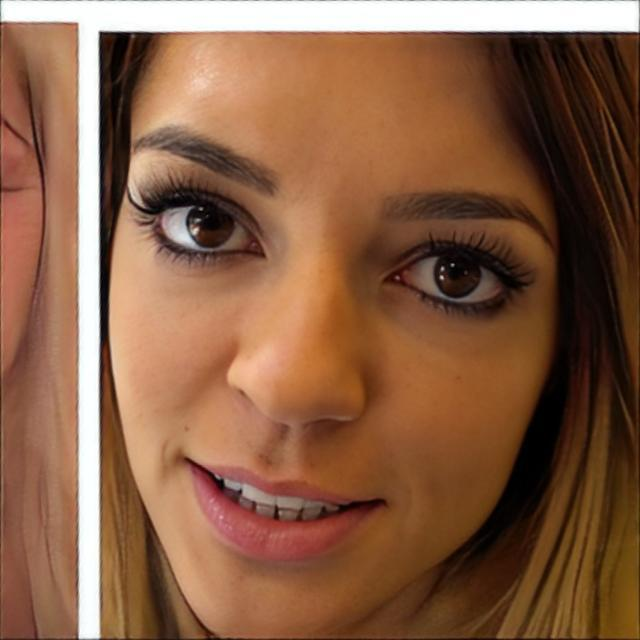happy: (102, 49, 552, 634)
